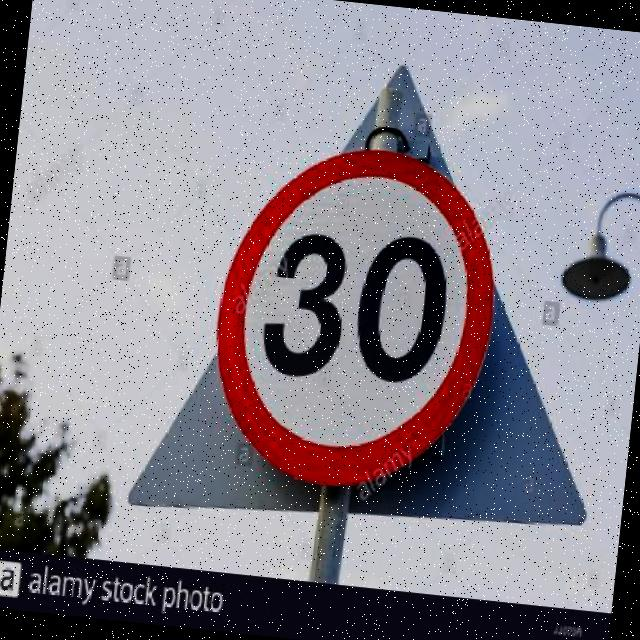Ograniczenie predkosci do 30: (204, 136, 509, 500)
